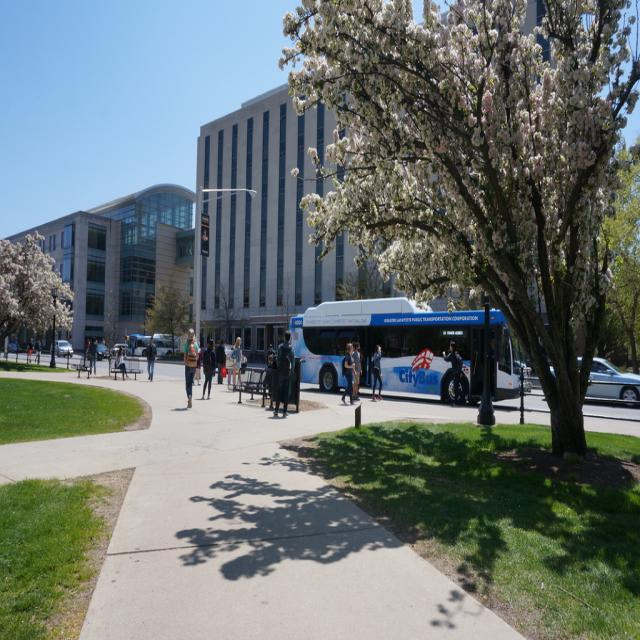car: (548, 352, 639, 406), (51, 336, 70, 352), (88, 337, 106, 353)
